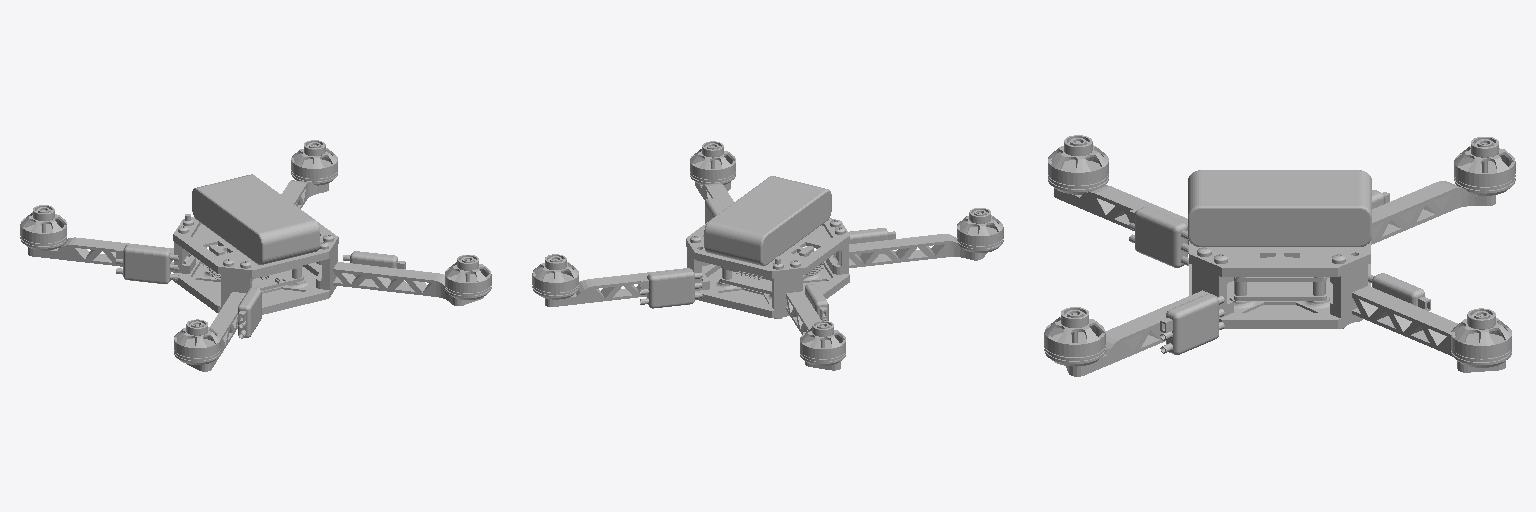
URDF robot description (drone):
<?xml version="1.0" encoding="utf-8"?>
<!-- This URDF was automatically created by SolidWorks to URDF Exporter! Originally created by [author] ([email redacted]) 
     Commit Version: 1.6.0-4-g7f85cfe  Build Version: 1.6.7995.38578
     For more information, please see http://wiki.ros.org/sw_urdf_exporter -->
<robot
  name="drone">
  <link
    name="base_link">
    <inertial>
      <origin
        xyz="0.0254856069891037 0.047869379212526 0.0582149212175753"
        rpy="0 0 0" />
      <mass
        value="0.115605092226254" />
      <inertia
        ixx="3.75767469277814E-05"
        ixy="-1.0709603238069E-10"
        ixz="-1.14861608382435E-19"
        iyy="5.8294617050047E-05"
        iyz="6.72280657348742E-10"
        izz="2.46020331281748E-05" />
    </inertial>
    <visual>
      <origin
        xyz="0 0 0"
        rpy="0 0 0" />
      <geometry>
        <mesh
          filename="package://drone/meshes/base_link.STL" />
      </geometry>
      <material
        name="">
        <color
          rgba="0.752941176470588 0.752941176470588 0.752941176470588 1" />
      </material>
    </visual>
    <collision>
      <origin
        xyz="0 0 0"
        rpy="0 0 0" />
      <geometry>
        <mesh
          filename="package://drone/meshes/base_link.STL" />
      </geometry>
    </collision>
  </link>
  <link
    name="link_front_left">
    <inertial>
      <origin
        xyz="-2.7756E-17 -0.004347 7.6328E-17"
        rpy="0 0 0" />
      <mass
        value="0.0011218" />
      <inertia
        ixx="7.2027E-07"
        ixy="-1.7186E-23"
        ixz="-8.0028E-09"
        iyy="7.3045E-07"
        iyz="-1.2074E-21"
        izz="1.5848E-08" />
    </inertial>
    <visual>
      <origin
        xyz="0 0 0"
        rpy="0 0 0" />
      <geometry>
        <mesh
          filename="package://drone/meshes/link_front_left.STL" />
      </geometry>
      <material
        name="">
        <color
          rgba="0.50196 0.50196 0.50196 1" />
      </material>
    </visual>
    <collision>
      <origin
        xyz="0 0 0"
        rpy="0 0 0" />
      <geometry>
        <mesh
          filename="package://drone/meshes/link_front_left.STL" />
      </geometry>
    </collision>
  </link>
  <joint
    name="joint_front_left"
    type="continuous">
    <origin
      xyz="0.10298 -0.13694 0.053883"
      rpy="-1.5708 0 1.8679" />
    <parent
      link="base_link" />
    <child
      link="link_front_left" />
    <axis
      xyz="0 1 0" />
  </joint>
  <link
    name="link_rear_left">
    <inertial>
      <origin
        xyz="-1.3878E-17 -0.004347 2.7756E-17"
        rpy="0 0 0" />
      <mass
        value="0.0011218" />
      <inertia
        ixx="7.2027E-07"
        ixy="-6.1279E-24"
        ixz="-8.0028E-09"
        iyy="7.3045E-07"
        iyz="-1.0624E-21"
        izz="1.5848E-08" />
    </inertial>
    <visual>
      <origin
        xyz="0 0 0"
        rpy="0 0 0" />
      <geometry>
        <mesh
          filename="package://drone/meshes/link_rear_left.STL" />
      </geometry>
      <material
        name="">
        <color
          rgba="0.50196 0.50196 0.50196 1" />
      </material>
    </visual>
    <collision>
      <origin
        xyz="0 0 0"
        rpy="0 0 0" />
      <geometry>
        <mesh
          filename="package://drone/meshes/link_rear_left.STL" />
      </geometry>
    </collision>
  </link>
  <joint
    name="joint_rear_left"
    type="continuous">
    <origin
      xyz="0.10422 0.019327 0.053883"
      rpy="-1.5708 0 1.2601" />
    <parent
      link="base_link" />
    <child
      link="link_rear_left" />
    <axis
      xyz="0 1 0" />
  </joint>
  <link
    name="link_front_right">
    <inertial>
      <origin
        xyz="0 -0.004347 6.9389E-18"
        rpy="0 0 0" />
      <mass
        value="0.0011218" />
      <inertia
        ixx="7.2027E-07"
        ixy="3.4709E-24"
        ixz="-8.0028E-09"
        iyy="7.3045E-07"
        iyz="8.0748E-23"
        izz="1.5848E-08" />
    </inertial>
    <visual>
      <origin
        xyz="0 0 0"
        rpy="0 0 0" />
      <geometry>
        <mesh
          filename="package://drone/meshes/link_front_right.STL" />
      </geometry>
      <material
        name="">
        <color
          rgba="0.50196 0.50196 0.50196 1" />
      </material>
    </visual>
    <collision>
      <origin
        xyz="0 0 0"
        rpy="0 0 0" />
      <geometry>
        <mesh
          filename="package://drone/meshes/link_front_right.STL" />
      </geometry>
    </collision>
  </link>
  <joint
    name="joint_front_right"
    type="continuous">
    <origin
      xyz="-0.053285 -0.13571 0.053883"
      rpy="-1.5708 0 1.106" />
    <parent
      link="base_link" />
    <child
      link="link_front_right" />
    <axis
      xyz="0 1 0" />
  </joint>
  <link
    name="link_rear_right">
    <inertial>
      <origin
        xyz="1.3878E-17 -0.004347 1.3878E-17"
        rpy="0 0 0" />
      <mass
        value="0.0011218" />
      <inertia
        ixx="7.2027E-07"
        ixy="-4.099E-25"
        ixz="-8.0028E-09"
        iyy="7.3045E-07"
        iyz="2.7093E-24"
        izz="1.5848E-08" />
    </inertial>
    <visual>
      <origin
        xyz="0 0 0"
        rpy="0 0 0" />
      <geometry>
        <mesh
          filename="package://drone/meshes/link_rear_right.STL" />
      </geometry>
      <material
        name="">
        <color
          rgba="0.50196 0.50196 0.50196 1" />
      </material>
    </visual>
    <collision>
      <origin
        xyz="0 0 0"
        rpy="0 0 0" />
      <geometry>
        <mesh
          filename="package://drone/meshes/link_rear_right.STL" />
      </geometry>
    </collision>
  </link>
  <joint
    name="joint_rear_right"
    type="continuous">
    <origin
      xyz="-0.05205 0.020562 0.053883"
      rpy="-1.5708 0 2.0502" />
    <parent
      link="base_link" />
    <child
      link="link_rear_right" />
    <axis
      xyz="0 1 0" />
  </joint>
</robot>

--- Render facts (derived) ---
The picture shows the robot from 3 angles, left to right: view 1: azimuth 30°, elevation 25°; view 2: azimuth 150°, elevation 25°; view 3: azimuth 270°, elevation 25°; orthographic projection.
Model drone with 5 links and 4 joints (4 continuous), rooted at base_link, posed every joint at zero.
Links seen in each view (by area): view 1: base_link; view 2: base_link; view 3: base_link.
Link boxes in pixels (box(x1,y1,x2,y2)): base_link: box(20, 140, 491, 371); base_link: box(532, 141, 1003, 370); base_link: box(1044, 135, 1515, 376).
Bounding box of the posed robot: 0.181 × 0.181 × 0.0459 m (x, y, z).
Meshes: 5 distinct files referenced, 1 mesh visuals loaded (1 binary STL); not drawn: 4 (reference not matched to a file when rendering).